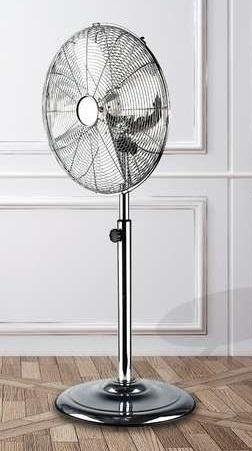fan: (37, 20, 206, 434)
